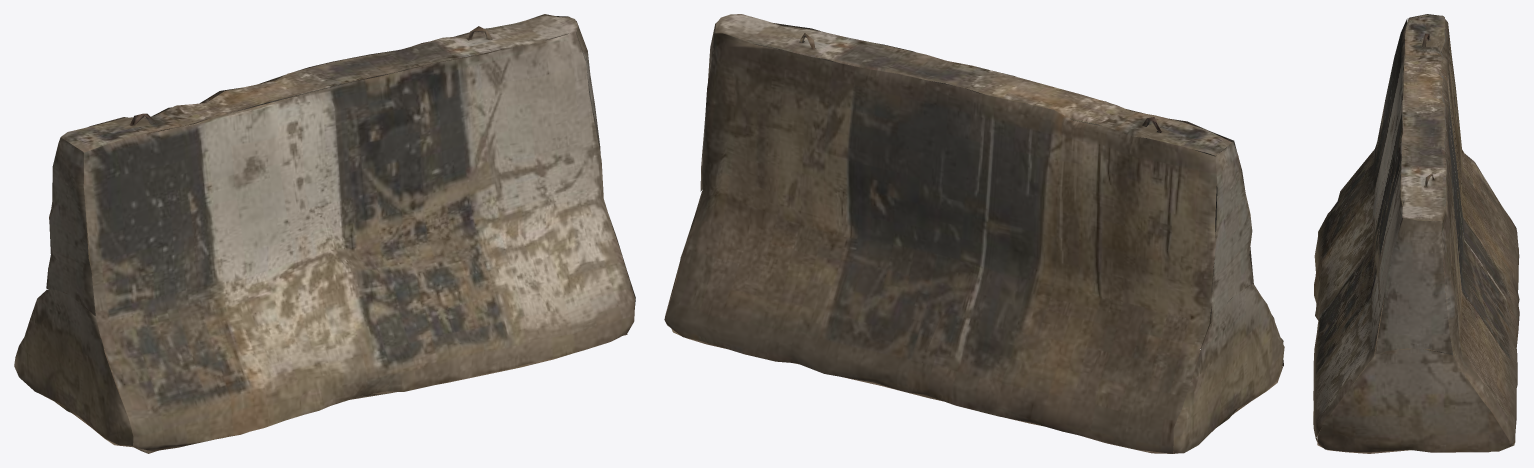
Rendered from barrier.glb.
The picture shows the model from 3 angles, left to right: view 1: azimuth 30°, elevation 25°; view 2: azimuth 150°, elevation 25°; view 3: azimuth 270°, elevation 25°; orthographic projection. The views are drawn at different scales.
Visible parts, largest first — view 1: concrete_road_barrier; view 2: concrete_road_barrier; view 3: concrete_road_barrier.
Boxes of the visible parts, box(x1,y1,x2,y2) form: concrete_road_barrier: box(14, 14, 635, 453); concrete_road_barrier: box(664, 14, 1284, 453); concrete_road_barrier: box(1313, 14, 1519, 453).
Bounding box in the file's own units: 1.54 × 0.8323 × 0.6344.
Materials: 1 (1 with a texture image).
